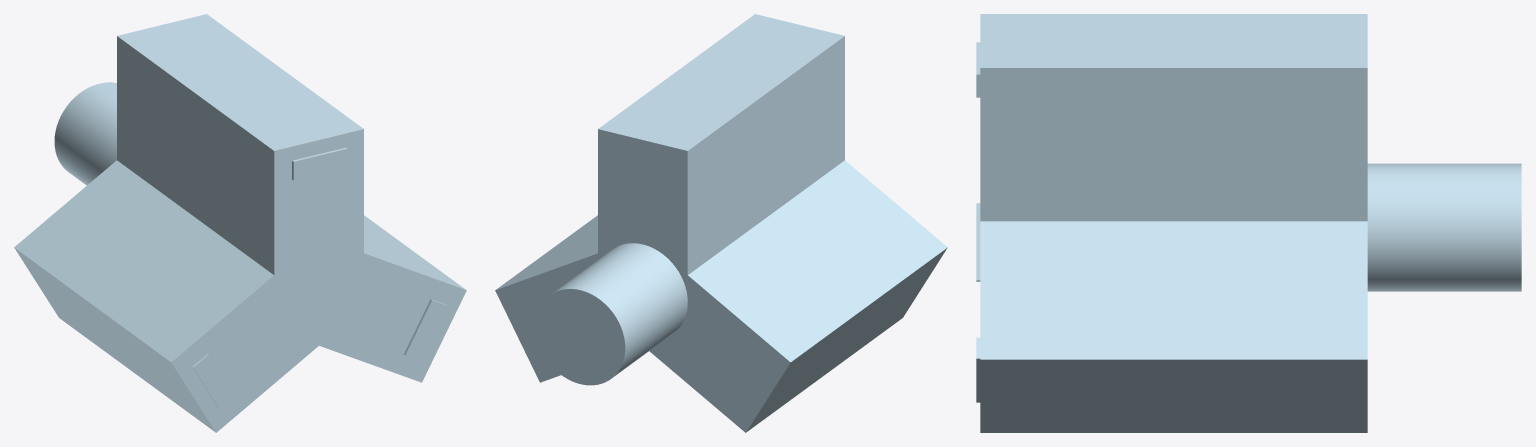
The model's file is Robot.gltf.
The picture shows the model from 3 angles, left to right: view 1: azimuth 30°, elevation 25°; view 2: azimuth 150°, elevation 25°; view 3: azimuth 270°, elevation 25°; orthographic projection. The views are drawn at different scales.
Parts seen in each view (by area): view 1: Part 1; view 2: Part 1; view 3: Part 1.
Part boxes in pixels (x1=…): Part 1: x1=14, y1=14, x2=466, y2=432; Part 1: x1=495, y1=14, x2=947, y2=432; Part 1: x1=976, y1=14, x2=1521, y2=432.
Bounding box in the file's own units: 0.3289 × 0.2848 × 0.4264.
